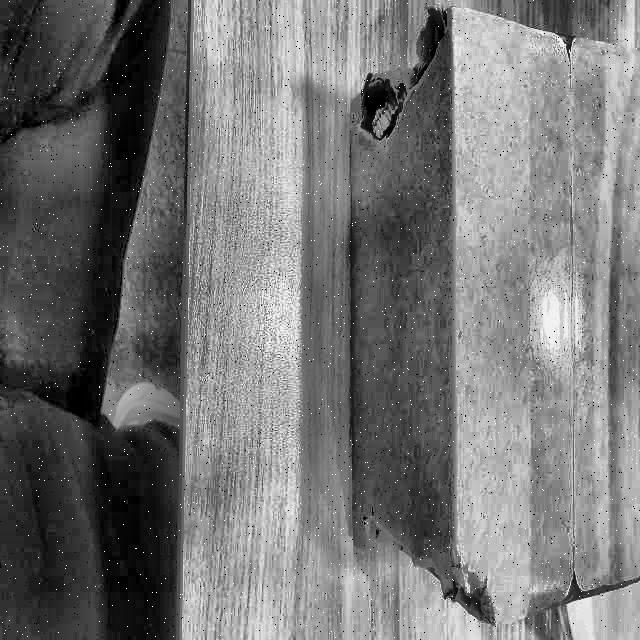box: (342, 2, 640, 633)
hole: (362, 22, 450, 140)
